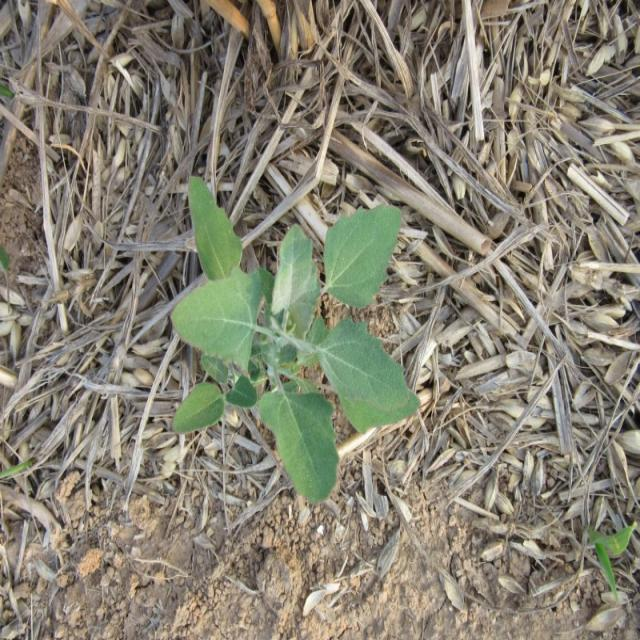ca: (167, 171, 420, 500)
